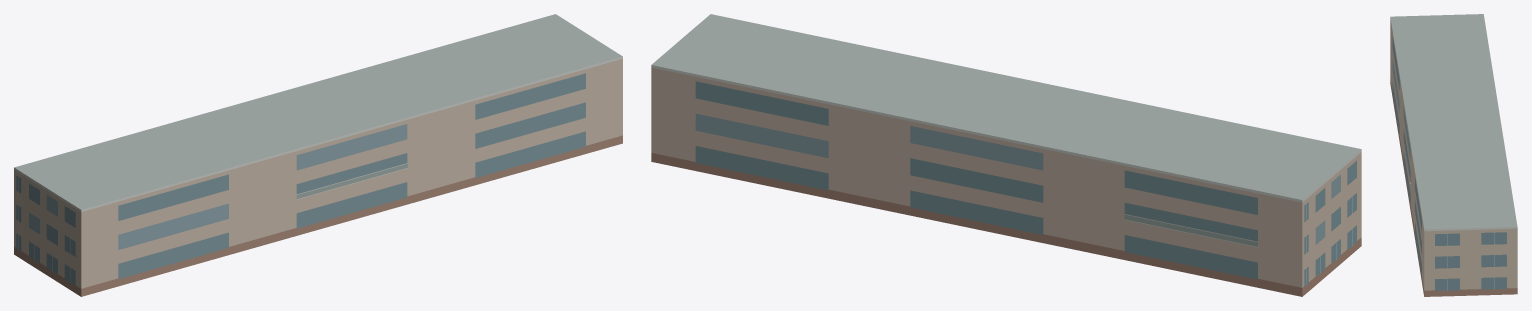
Rendered from survey-upis-32813247.glb.
3 renders of one model, left to right at view 1: azimuth 30°, elevation 25°; view 2: azimuth 150°, elevation 25°; view 3: azimuth 270°, elevation 25°, orthographic. The views are drawn at different scales.
Parts seen in each view (by area): view 1: survey-upis-32813247.tmp; view 2: survey-upis-32813247.tmp; view 3: survey-upis-32813247.tmp.
Part boxes in pixels (x1,y1,x2,y2): survey-upis-32813247.tmp: (14, 14, 622, 296); survey-upis-32813247.tmp: (651, 14, 1361, 296); survey-upis-32813247.tmp: (1390, 14, 1517, 296).
Bounding box in the file's own units: 62.72 × 9.15 × 15.64.
